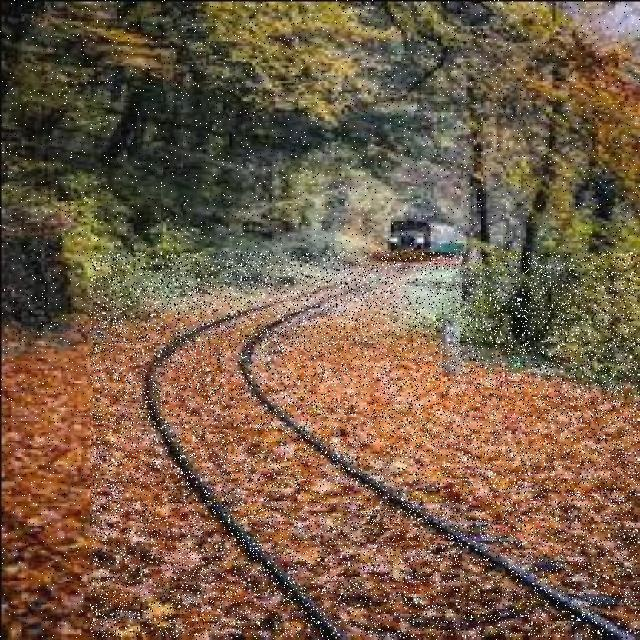rail: (92, 253, 640, 638)
